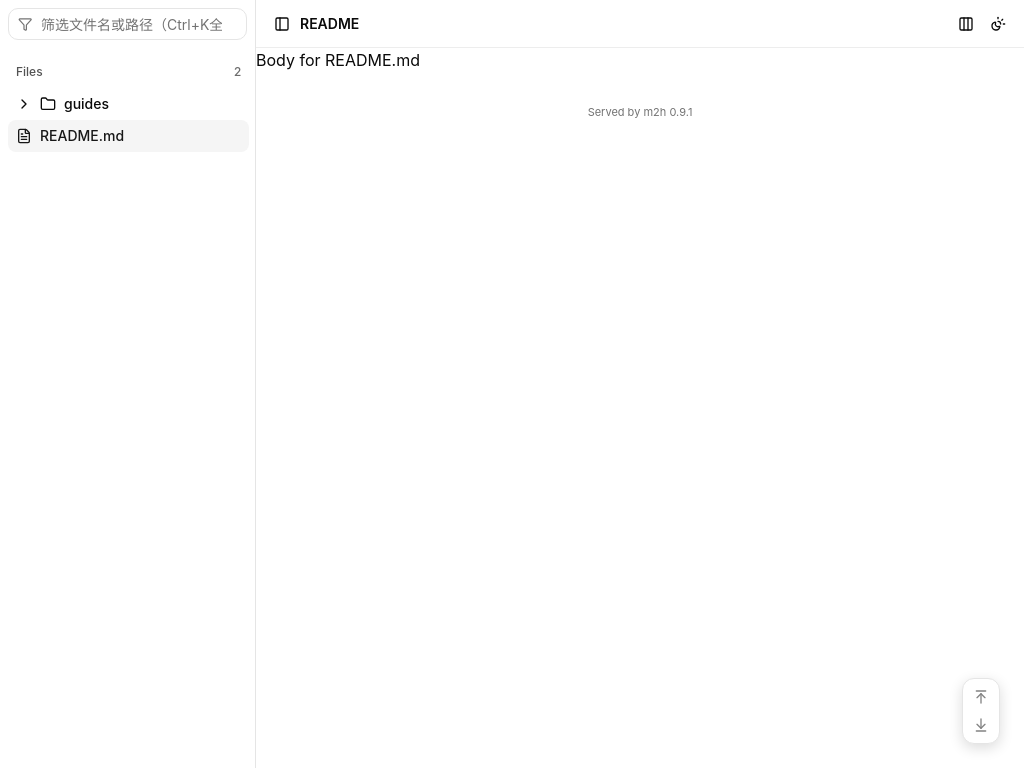
it: App global full-text search › selects a cross-document result through the normal navigation
expect the text "Body for README.md" is shown: met, box x1=256 y1=50 x2=420 y2=70
Press k
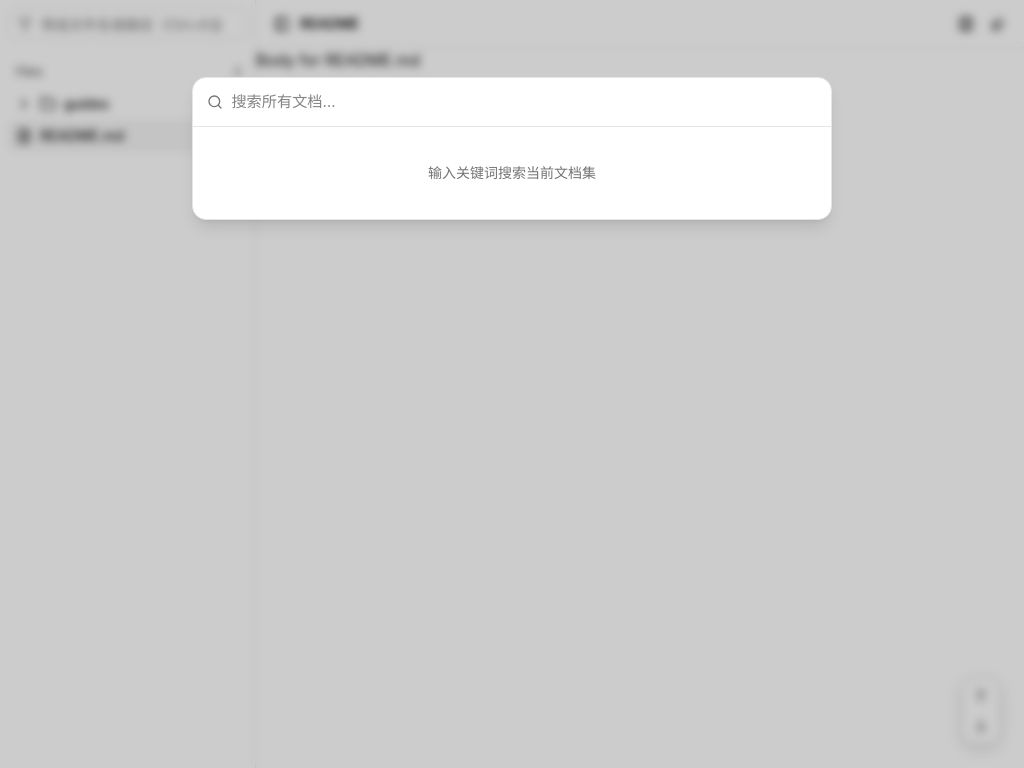
Type "needle" into the search field named "全文搜索" at (512, 102), box x1=193 y1=78 x2=831 y2=126
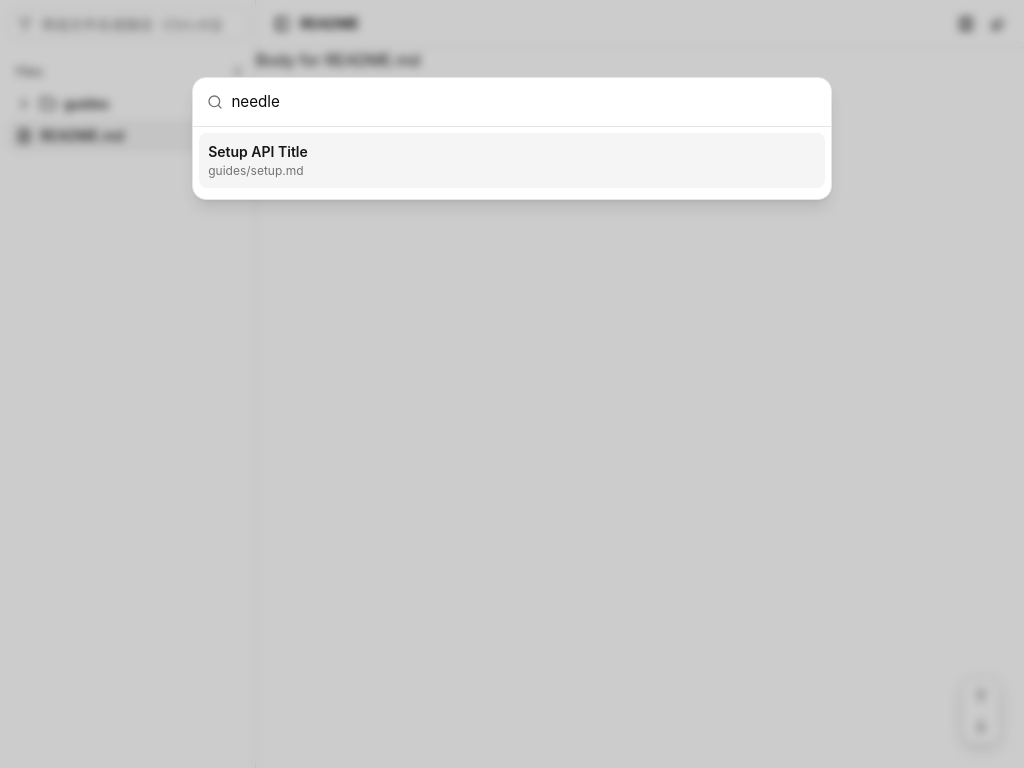
Click the button with aria-label "Setup API Title，guides/setup.md" at (258, 151), box x1=199 y1=133 x2=825 y2=188
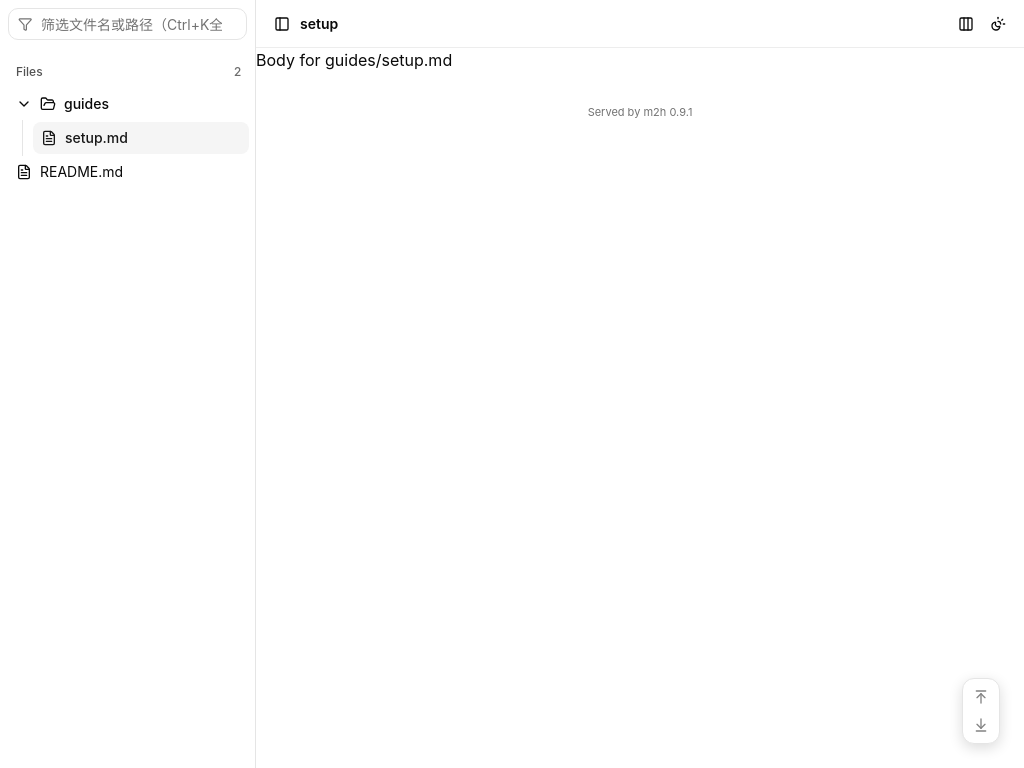
expect the text "Body for guides/setup.md" is shown: met, box x1=256 y1=50 x2=452 y2=70
